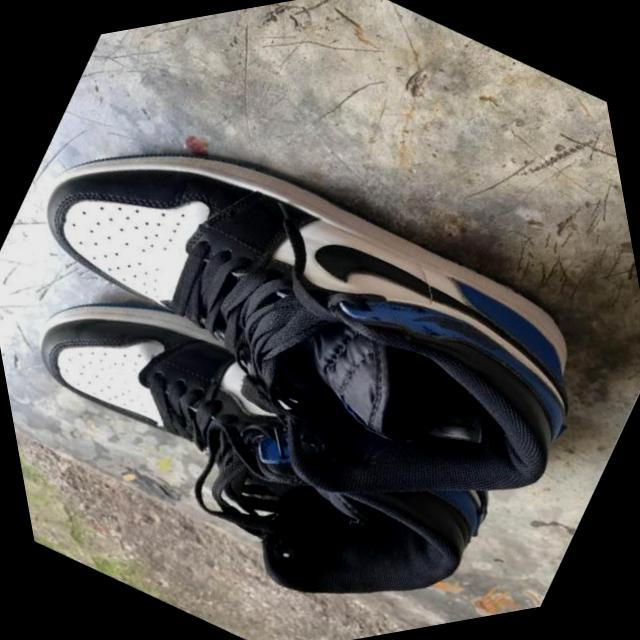nike_fake_jordan: (0, 2, 640, 640), (0, 192, 536, 640)
